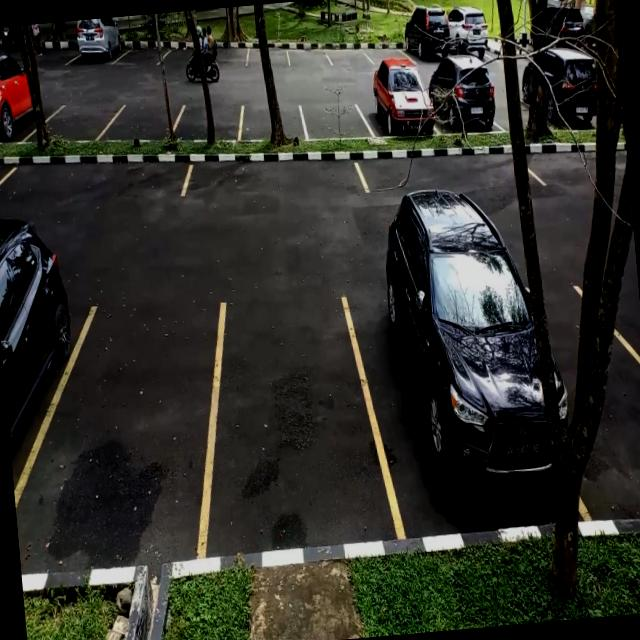car: (342, 202, 554, 544), (0, 220, 90, 497), (366, 66, 438, 139), (434, 60, 498, 136), (0, 60, 34, 143), (74, 18, 124, 67)
free: (19, 298, 234, 574), (196, 292, 390, 558), (0, 147, 193, 212), (182, 149, 366, 211), (108, 96, 180, 142), (45, 100, 112, 146), (172, 102, 242, 146), (300, 98, 369, 142), (238, 101, 306, 144), (246, 38, 290, 70), (120, 38, 164, 69), (286, 39, 331, 69), (326, 40, 369, 70), (212, 38, 250, 69)
